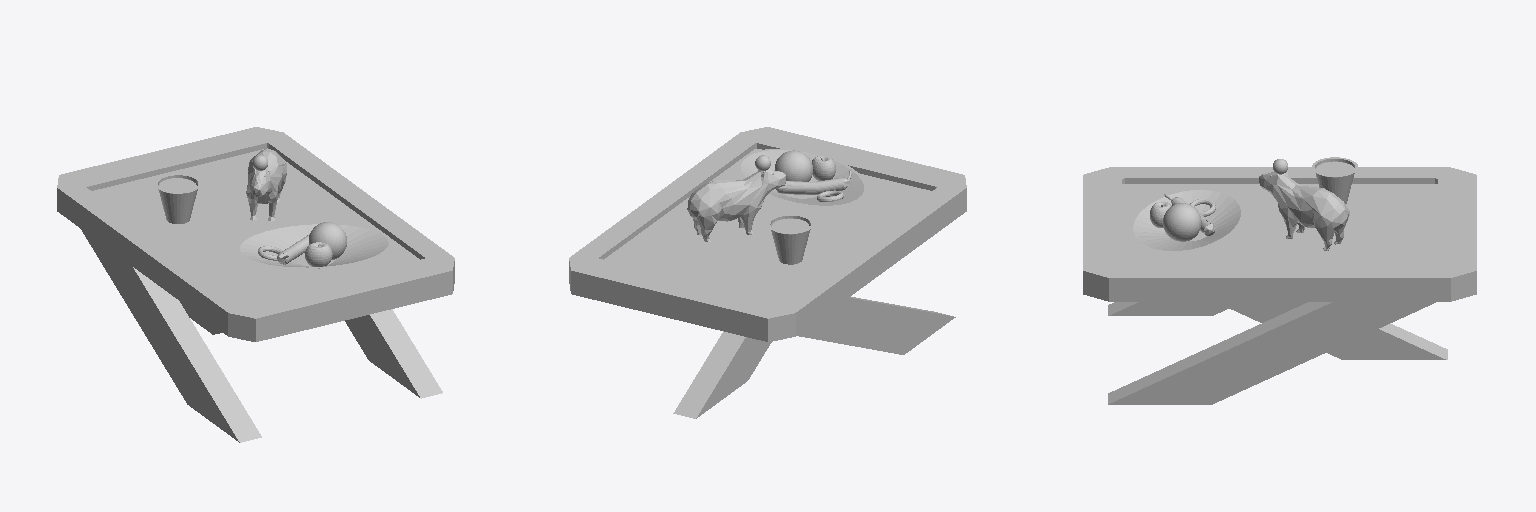
The model's file is stol.obj.
3 views of the same model, side by side, from view 1: azimuth 30°, elevation 25°; view 2: azimuth 150°, elevation 25°; view 3: azimuth 270°, elevation 25° (orthographic).
Parts seen in each view (by area): view 1: stol, tarelka, Capybara_LowPoly, stakan, orange, apple; view 2: stol, Capybara_LowPoly, tarelka, stakan, orange, bansn; view 3: stol, Capybara_LowPoly, tarelka, orange, stakan.
Boxes of the visible parts, box(x1,y1,x2,y2) form: stol: box(57, 127, 454, 442); tarelka: box(237, 223, 391, 268); Capybara_LowPoly: box(246, 148, 286, 221); stakan: box(155, 174, 201, 223); orange: box(309, 222, 346, 259); apple: box(305, 242, 332, 268); stol: box(569, 127, 966, 418); Capybara_LowPoly: box(687, 169, 785, 241); tarelka: box(738, 149, 866, 206); stakan: box(767, 214, 813, 264); orange: box(775, 150, 812, 181); bansn: box(776, 171, 851, 194); stol: box(1083, 167, 1476, 404); Capybara_LowPoly: box(1259, 171, 1349, 250); tarelka: box(1130, 188, 1243, 252); orange: box(1163, 203, 1201, 241); stakan: box(1312, 157, 1358, 203).
Bounding box in the file's own units: 4 × 3.34 × 6.01.